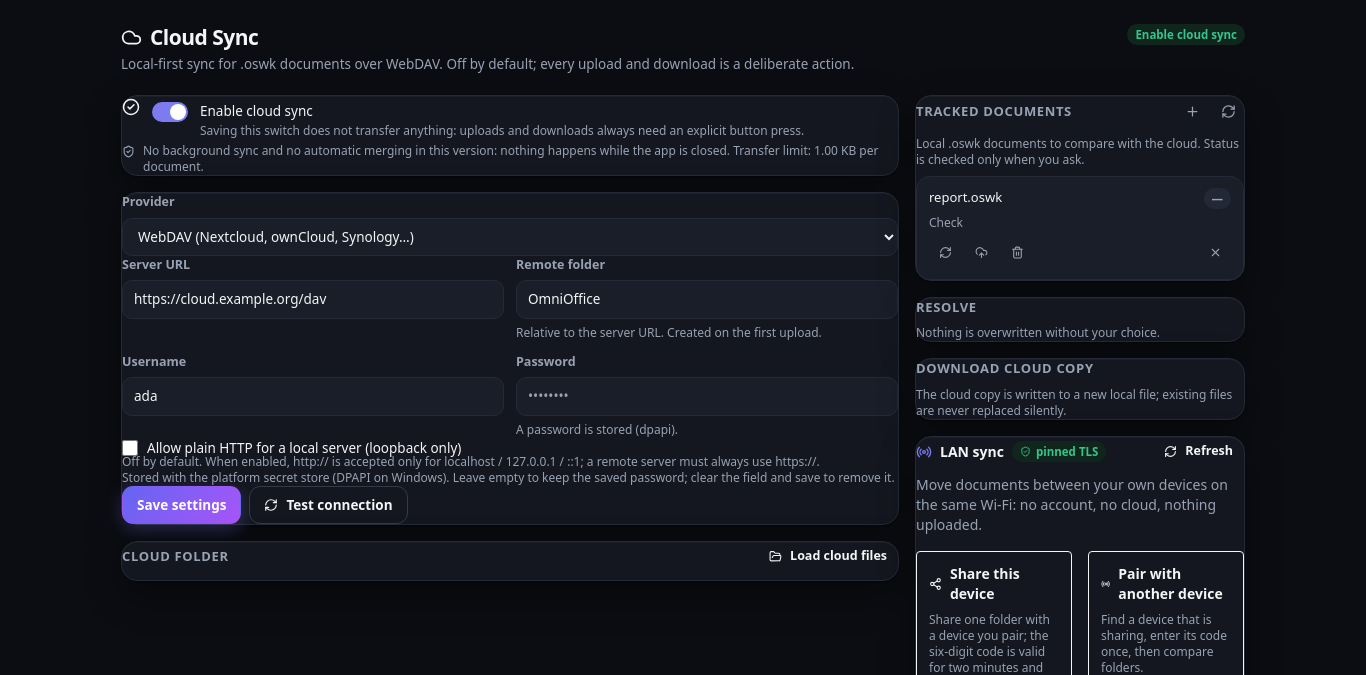
cloud sync delete-from-cloud › cancel keeps the cloud copy
Click the button named "Delete from cloud" at (1017, 253), box [1001, 237, 1033, 269]
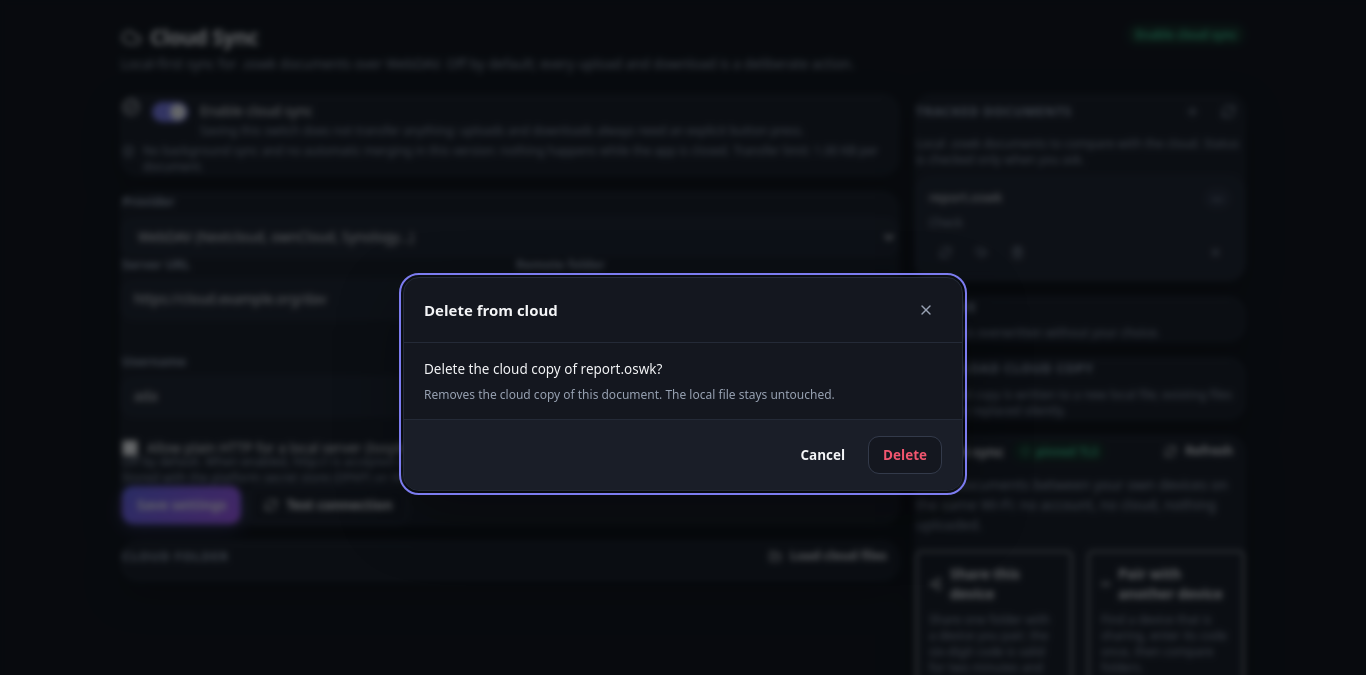
Click the button "Cancel" at (823, 455), box [785, 436, 860, 474]
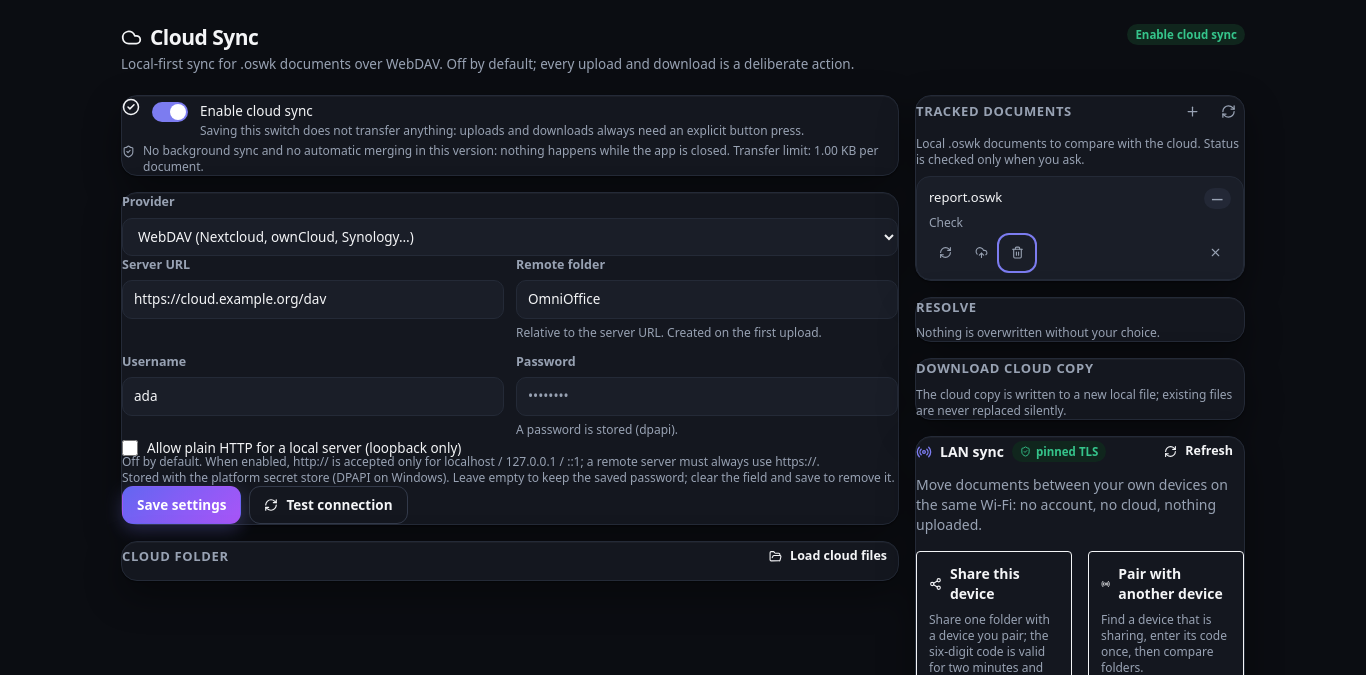
Now the text "Delete the cloud copy of report.oswk?" is gone
